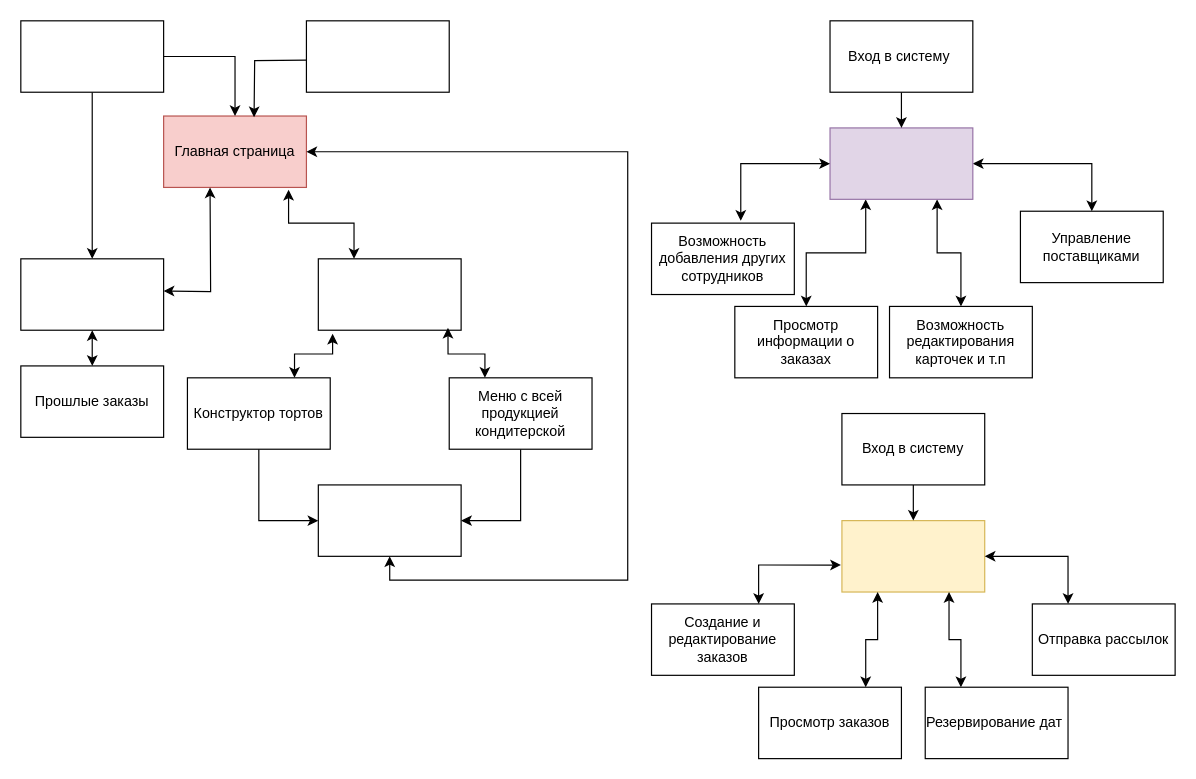
Some shapes in this 1196 by 779 pixel diagram are drawn without their labels. Each missing label, with the centre of its shape:
"Вход" belongs at (x=92, y=56).
"Каталог" belongs at (x=389, y=294).
"Корзина и оформление заказов" belongs at (x=389, y=520).
"Личный кабинет" belongs at (x=92, y=294).
"Регистрация" belongs at (x=377, y=56).
"Страница администратора" belongs at (x=901, y=163).
"Страница менеджера по продажам" belongs at (x=913, y=555).
